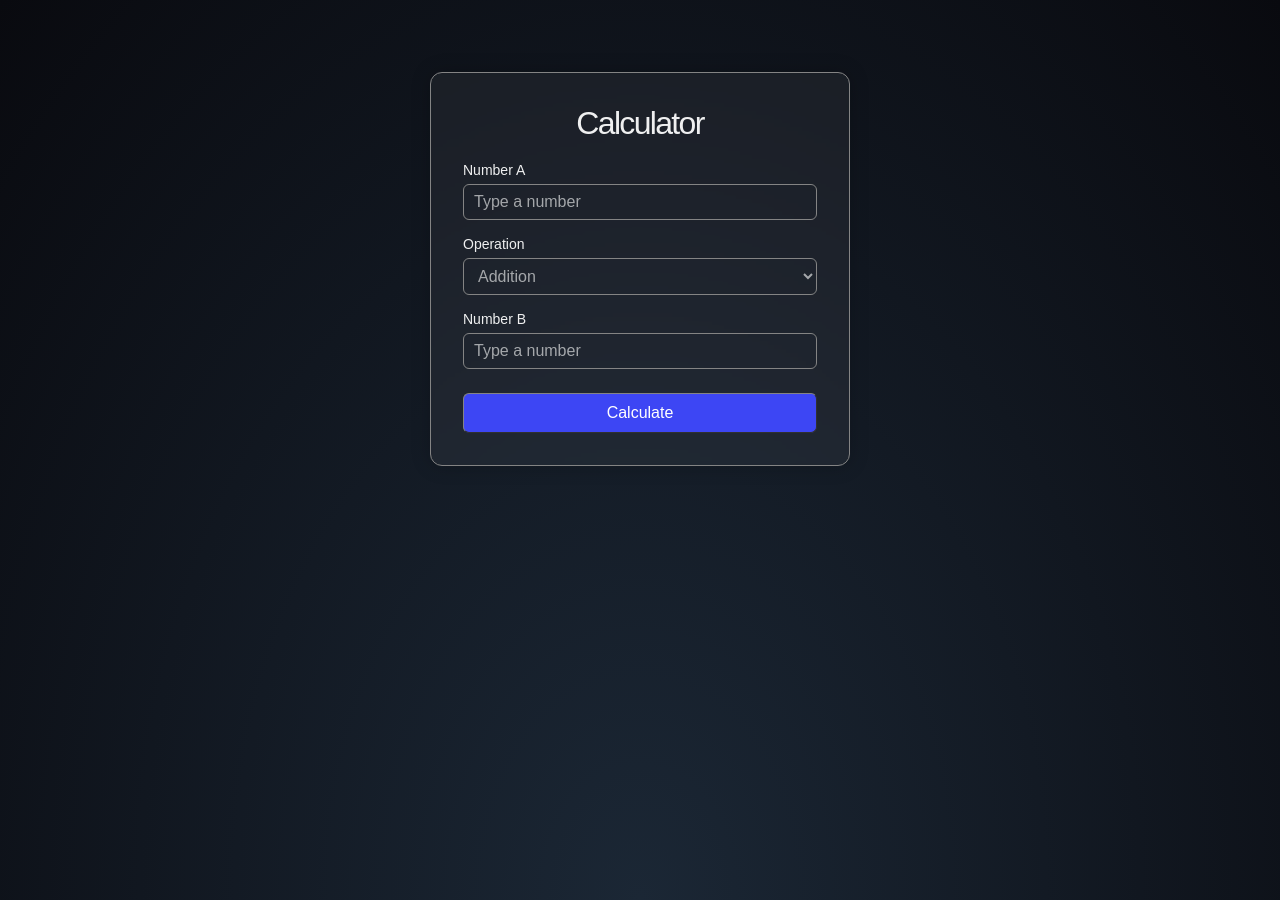
Test case: Calculator component › submits the default operation with the entered operands
Type "10" into the number field labelled "Number A" at (640, 202), box [463,184,817,220]
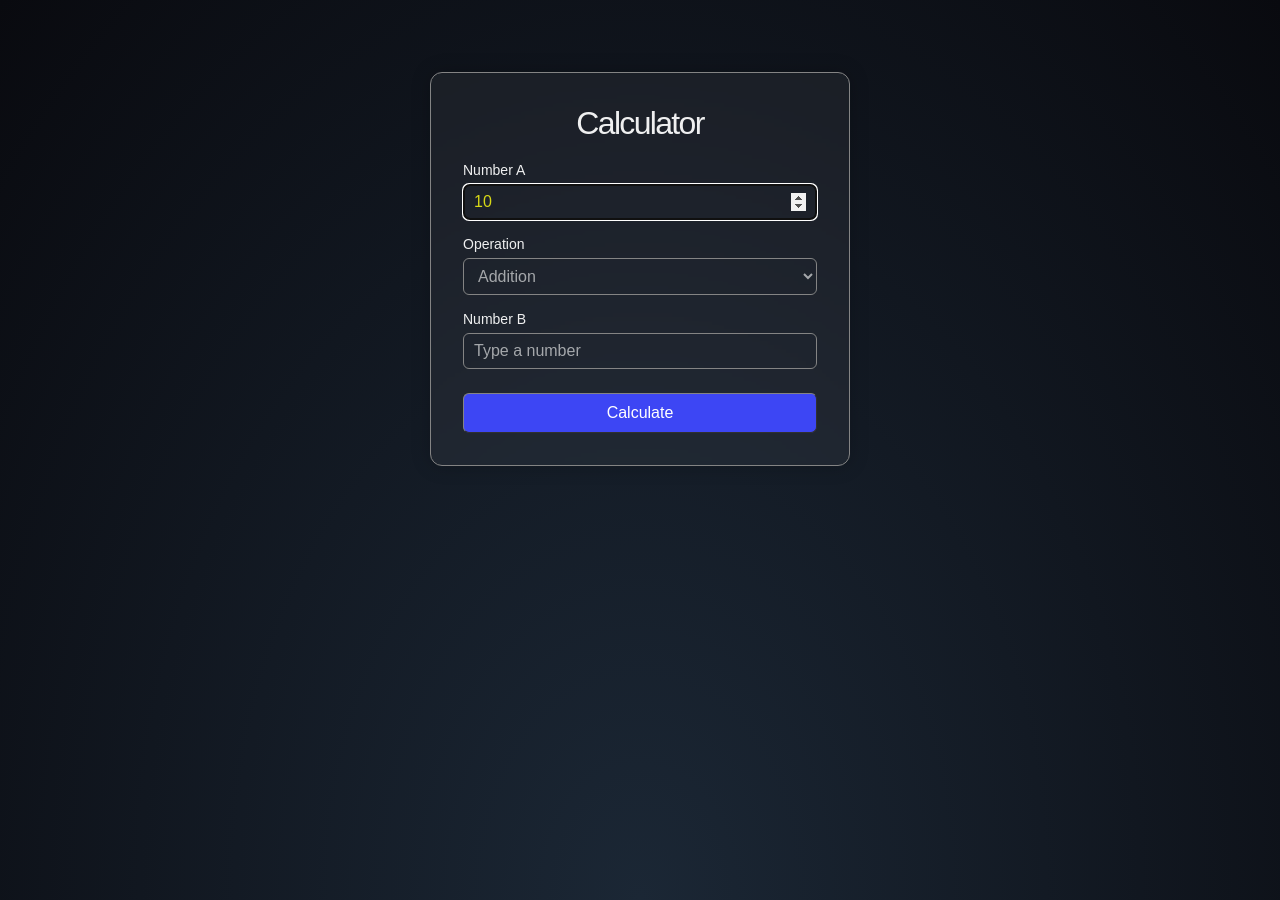
Type "5" into the number field labelled "Number B" at (640, 351), box [463,333,817,369]
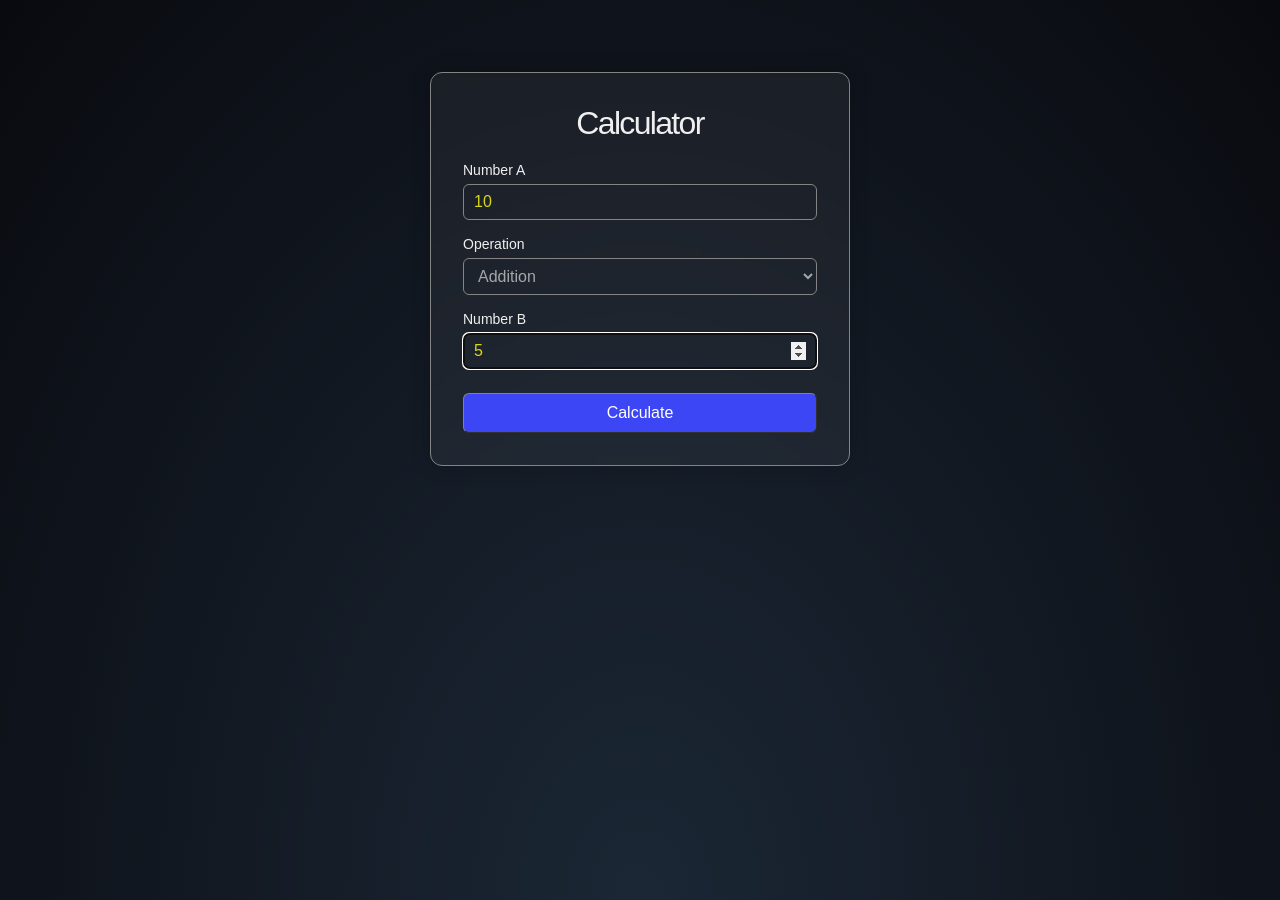
Click the button "Calculate" at (640, 413), box [463,393,817,433]
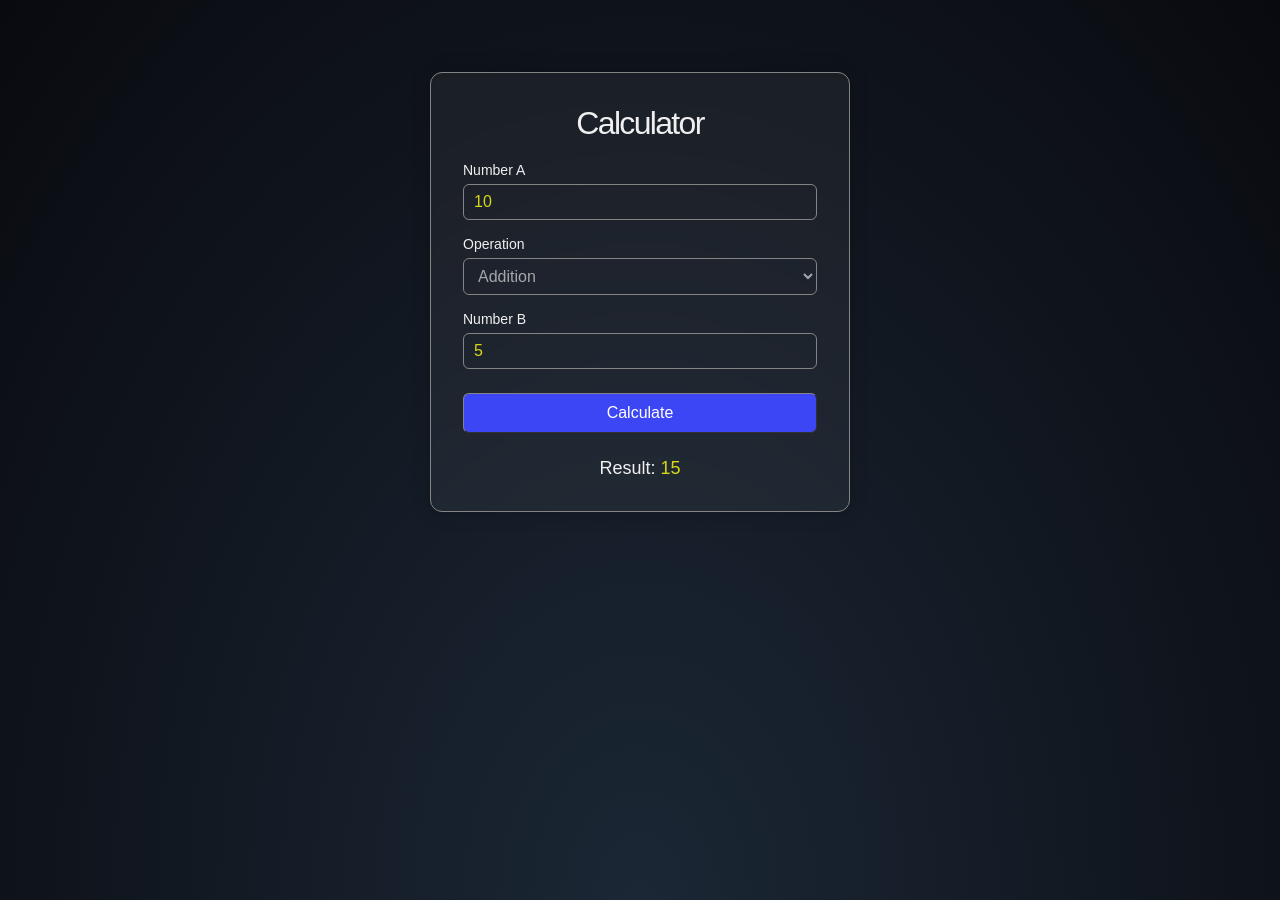
Expected: the text "Result: 15" is shown, [600,458,681,478]
Expected: the text "15" is shown, [660,458,680,478]
